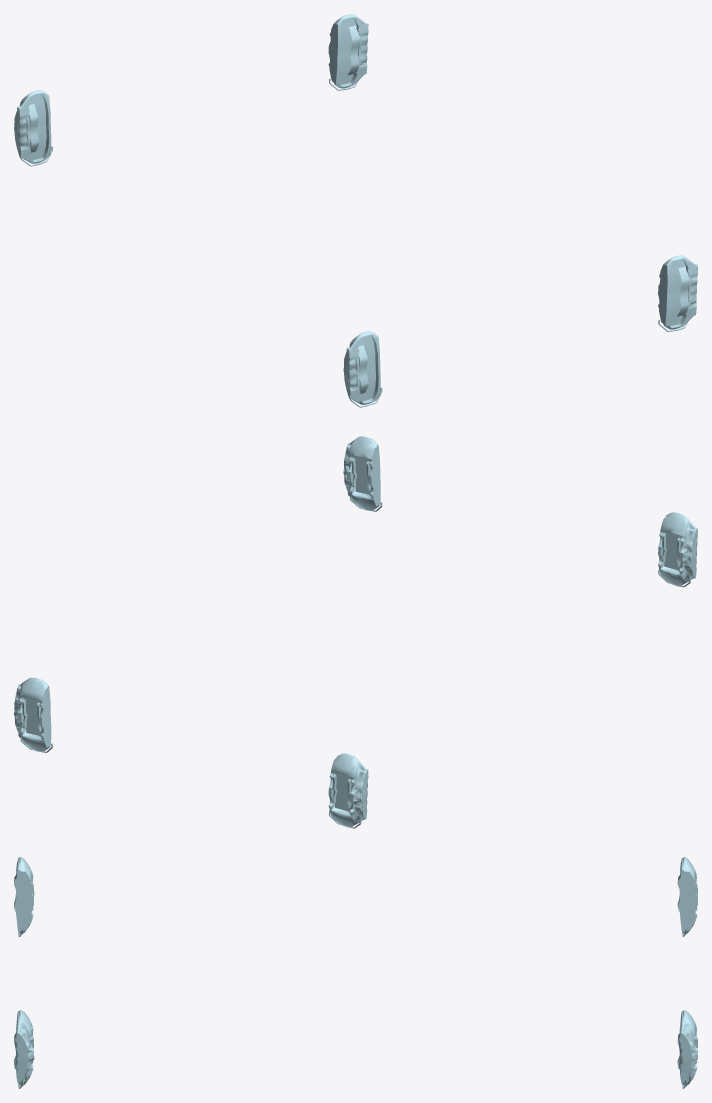
Rendered from calipers.glb.
The picture shows the model from 3 angles, top to bottom: view 1: azimuth 30°, elevation 25°; view 2: azimuth 150°, elevation 25°; view 3: azimuth 270°, elevation 25°; orthographic projection.
Visible parts, largest first — view 1: calipers; view 2: calipers; view 3: calipers.
Part boxes in pixels (box(x1,y1,x2,y2)): calipers: box(14, 14, 697, 407); calipers: box(14, 436, 697, 828); calipers: box(14, 857, 697, 1088).
Bounding box in the file's own units: 1.65 × 0.3329 × 2.78.
